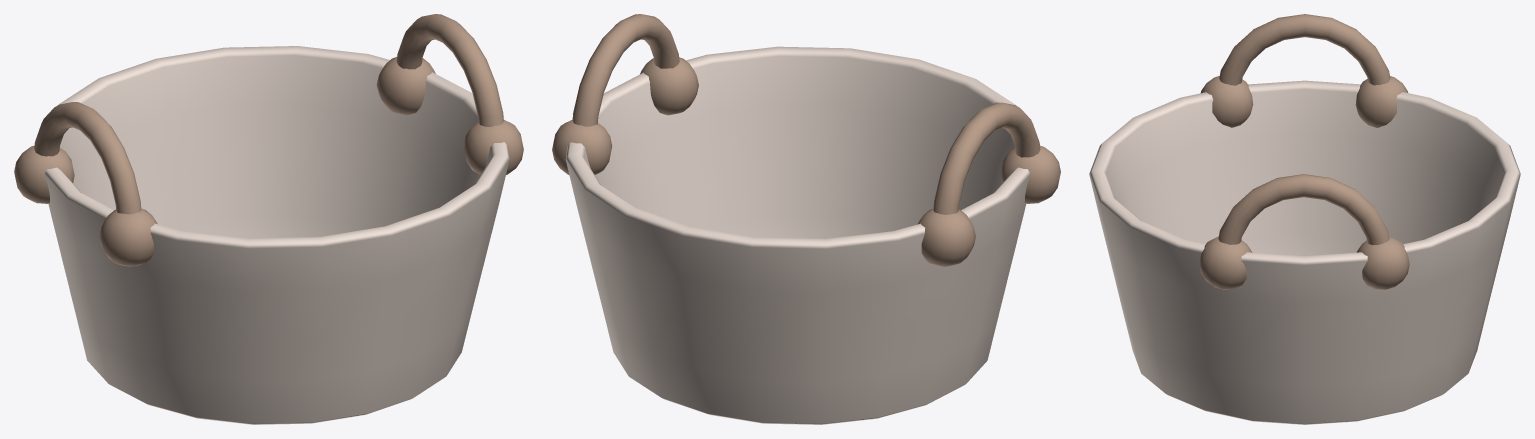
The model's file is Basket_1.glb.
3 views of the same model, side by side, from view 1: azimuth 30°, elevation 25°; view 2: azimuth 150°, elevation 25°; view 3: azimuth 270°, elevation 25° (orthographic). The views are drawn at different scales.
Visible parts, largest first — view 1: Basket_2; view 2: Basket_2; view 3: Basket_2.
Part boxes in pixels (x1,y1,x2,y2): Basket_2: (14, 14, 523, 424); Basket_2: (552, 14, 1060, 424); Basket_2: (1089, 14, 1520, 424).
Size of the model in its own units: 0.8773 by 0.5683 by 0.8649.
Materials: 1 (1 with a texture image).
